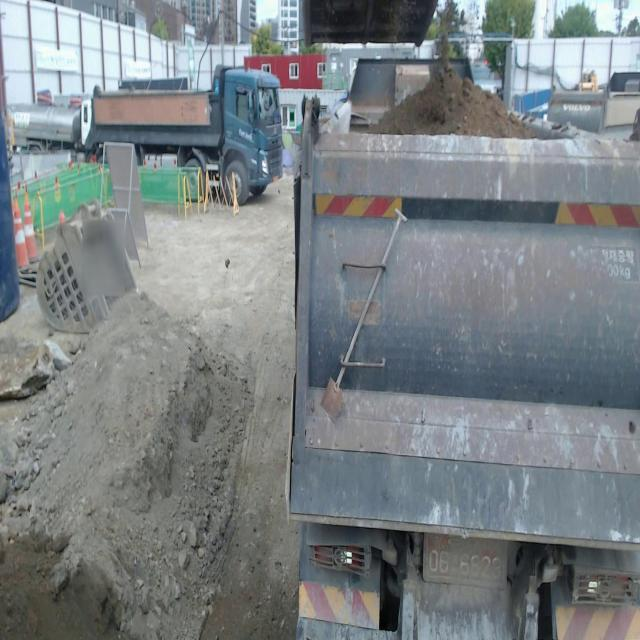red-sand: (358, 43, 535, 138)
white-sand: (4, 295, 251, 639), (139, 171, 298, 639)
